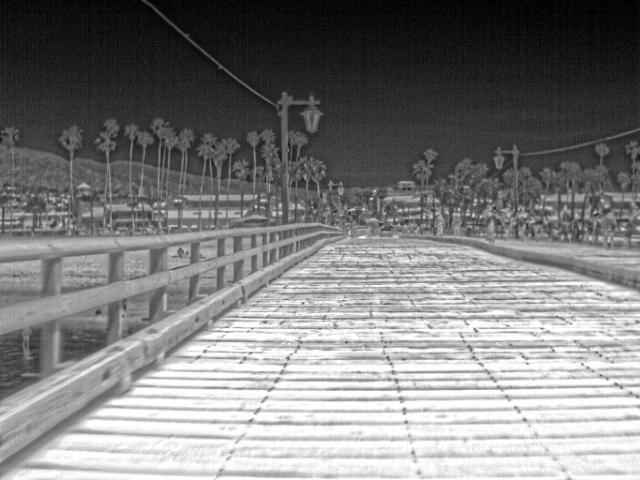car: (350, 223, 370, 238), (378, 226, 394, 238)
person: (558, 203, 576, 242), (499, 200, 514, 239), (515, 204, 529, 241), (434, 211, 448, 237), (450, 209, 462, 236)
